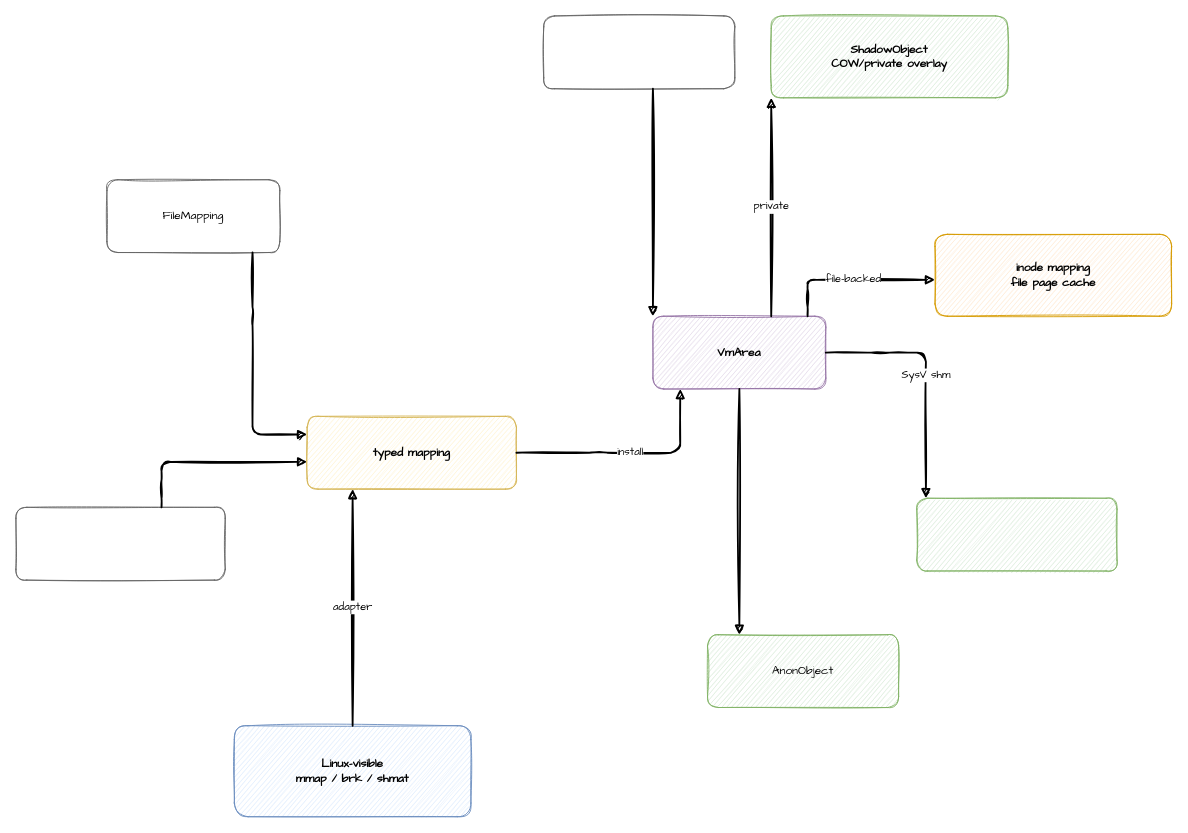
Some shapes in this 1188 by 833 pixel diagram are drawn without their labels. Here are the shapes that lost their labels. From the top down, the box of each, then its label:
(543, 15, 735, 89): ObjectMapping
(15, 506, 225, 580): AnonymousMapping
(916, 497, 1117, 571): ShmObject shared pages
